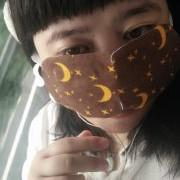WRONG: (40, 8, 172, 134)
